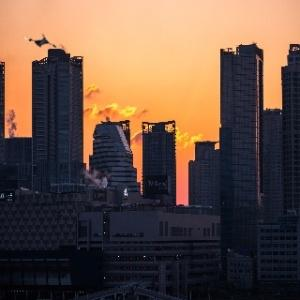drone: (24, 24, 61, 61)
